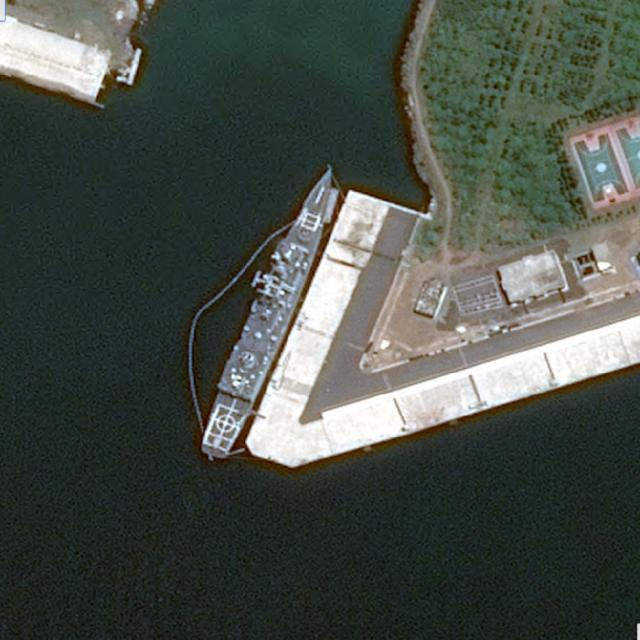Frigate: (193, 159, 352, 462)
